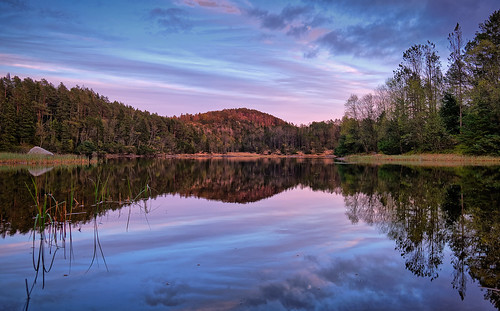river: (6, 161, 500, 311)
sky: (7, 3, 496, 115)
vegetation: (1, 65, 500, 161)
